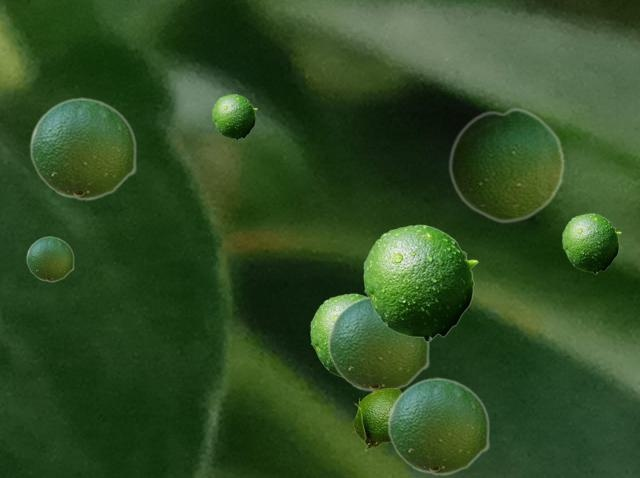dalandan: (448, 106, 564, 223), (363, 224, 477, 341), (29, 97, 136, 200), (387, 377, 489, 475), (327, 295, 429, 392), (310, 293, 365, 377), (562, 213, 620, 273), (352, 388, 401, 452), (26, 236, 73, 281), (212, 94, 256, 139)
